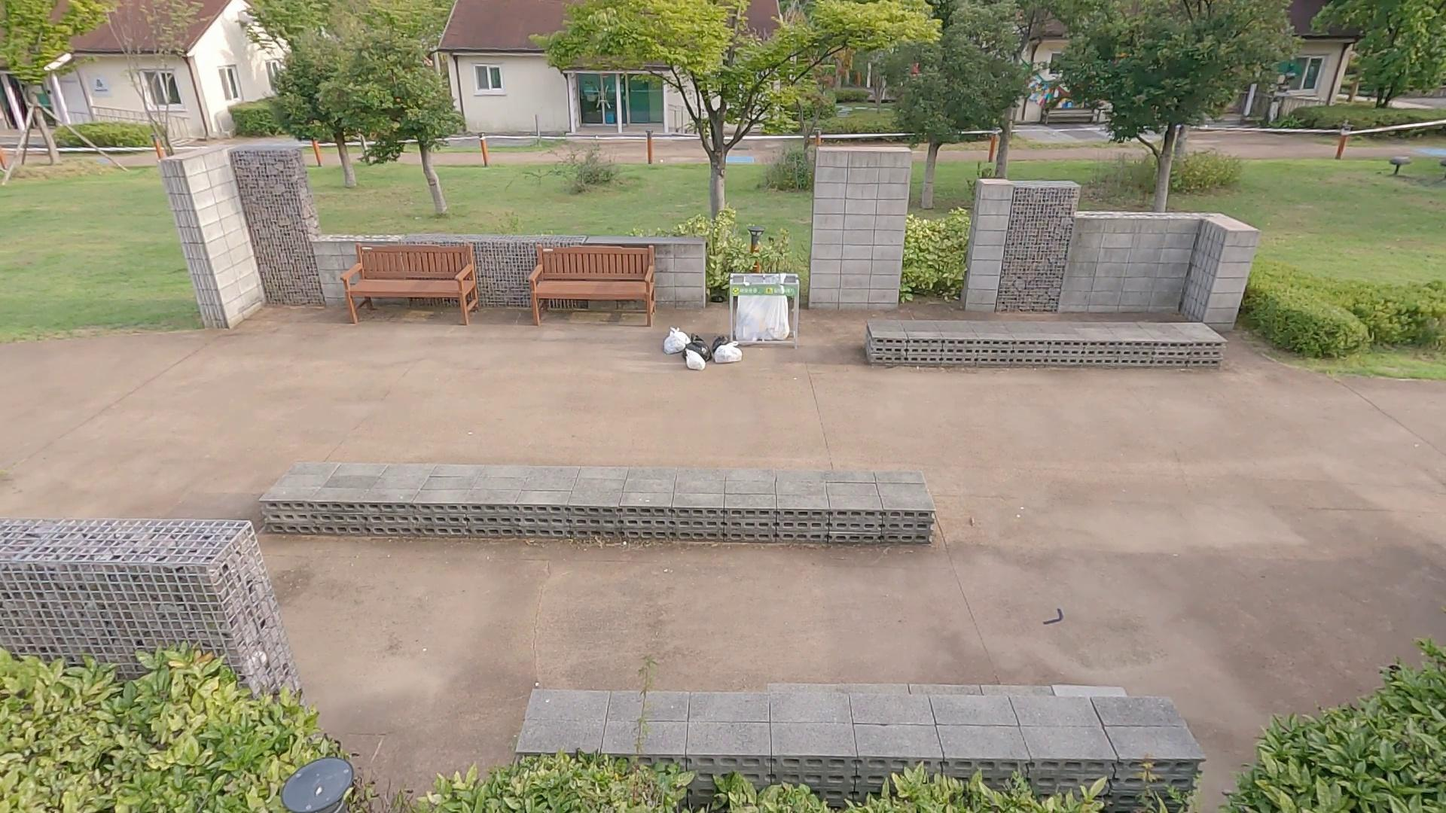trash: (682, 332, 713, 364), (663, 325, 693, 356), (713, 343, 745, 364), (685, 348, 708, 372), (711, 334, 729, 355)
